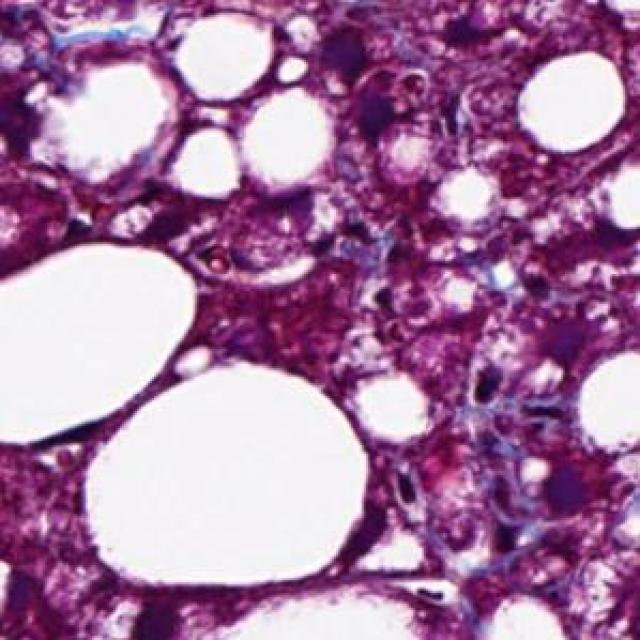inflammation: (308, 21, 409, 146), (426, 4, 546, 62), (473, 467, 539, 565), (456, 356, 516, 416)
